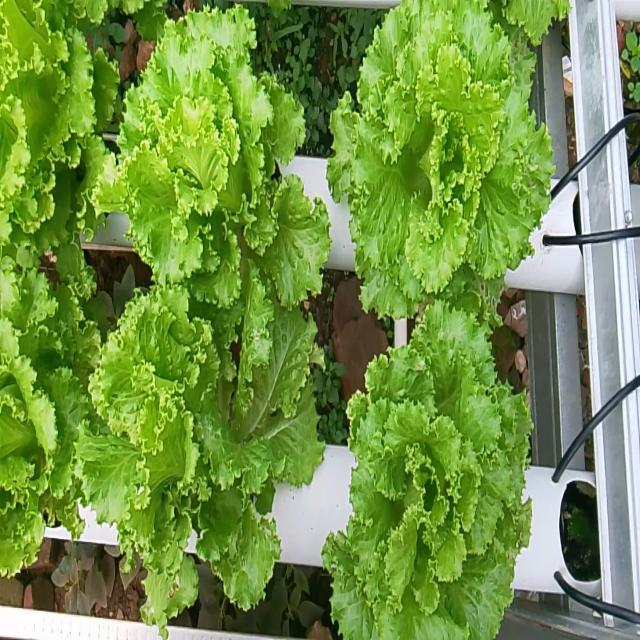Mature: (77, 285, 324, 611), (323, 1, 566, 320), (318, 300, 528, 640), (91, 6, 328, 307)
